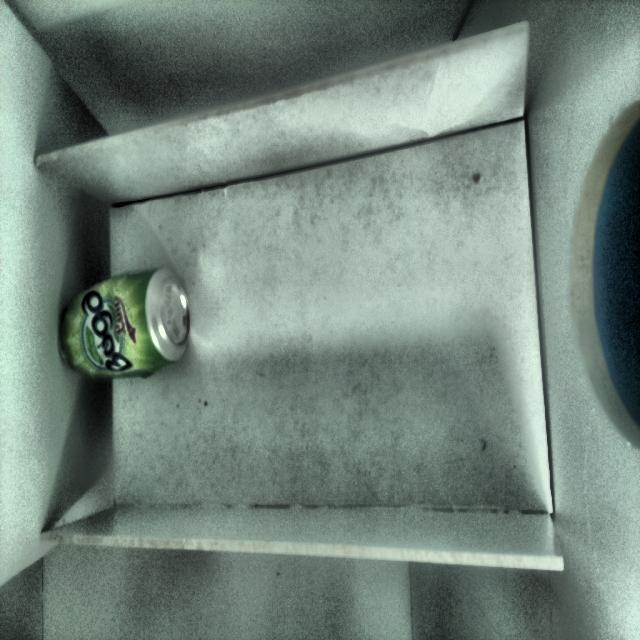Cans: (61, 266, 192, 377)
